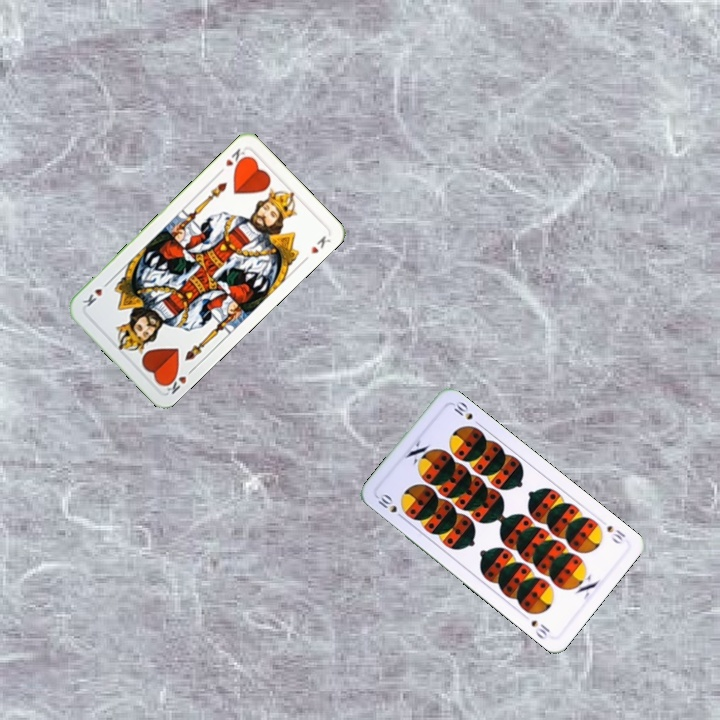HK: (159, 364, 197, 397), (214, 144, 250, 177)
S10: (373, 489, 407, 522), (603, 521, 628, 547)
